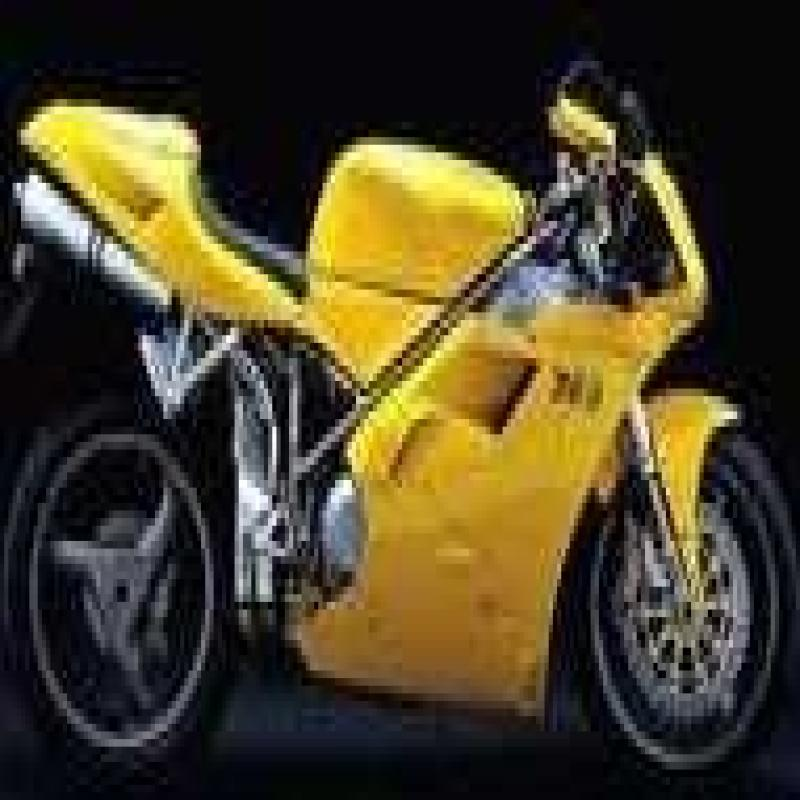bike: (7, 12, 796, 800)
